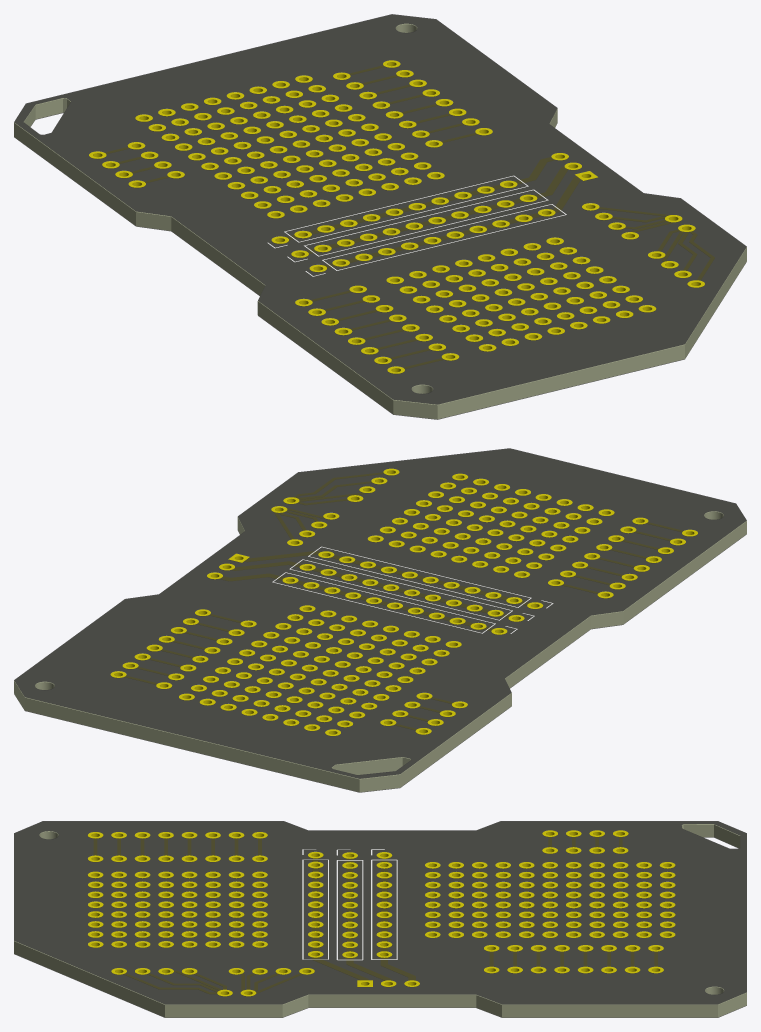
File: Splunkerboard Dev.glb
3 views of the same model, one above another, from view 1: azimuth 30°, elevation 25°; view 2: azimuth 150°, elevation 25°; view 3: azimuth 270°, elevation 25° (orthographic). The views are drawn at different scales.
Visible parts, largest first — view 1: =>[0:1:1:5], =>[0:1:1:7], =>[0:1:1:2], =>[0:1:1:3], =>[0:1:1:6]; view 2: =>[0:1:1:5], =>[0:1:1:7], =>[0:1:1:2], =>[0:1:1:3], =>[0:1:1:6]; view 3: =>[0:1:1:5], =>[0:1:1:7], =>[0:1:1:2], =>[0:1:1:3], =>[0:1:1:6].
Boxes of the visible parts, x1,y1,x2,y2 form: =>[0:1:1:5]: [14, 14, 746, 404]; =>[0:1:1:7]: [14, 15, 746, 419]; =>[0:1:1:2]: [89, 60, 714, 373]; =>[0:1:1:3]: [267, 175, 566, 276]; =>[0:1:1:6]: [14, 112, 746, 419]; =>[0:1:1:5]: [14, 448, 746, 778]; =>[0:1:1:7]: [14, 449, 746, 792]; =>[0:1:1:2]: [110, 468, 697, 735]; =>[0:1:1:3]: [272, 546, 553, 633]; =>[0:1:1:6]: [14, 530, 746, 792]; =>[0:1:1:5]: [14, 821, 746, 1004]; =>[0:1:1:7]: [14, 822, 746, 1017]; =>[0:1:1:2]: [88, 830, 675, 996]; =>[0:1:1:3]: [302, 849, 397, 960]; =>[0:1:1:6]: [14, 837, 746, 1017].
Size of the model in its own units: 0.047 by 0.00166 by 0.0793.
